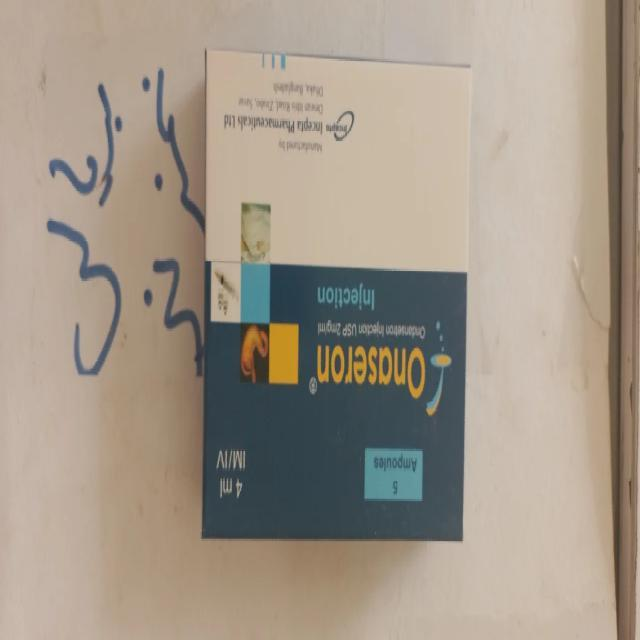drug-name: (313, 341, 426, 400)
